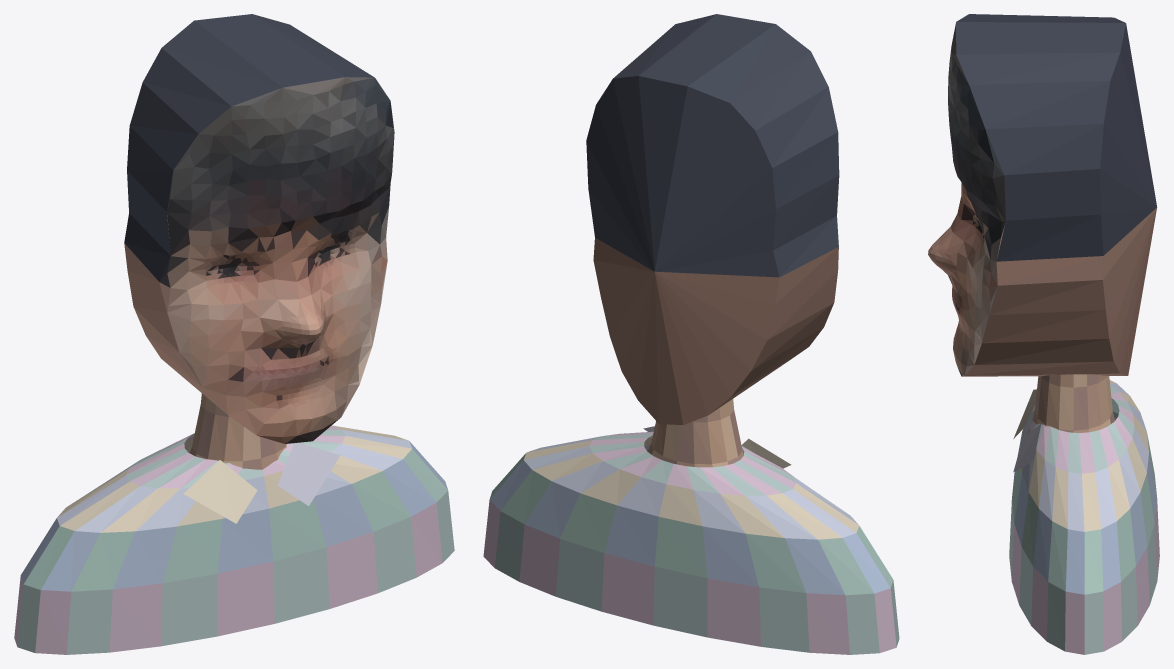
File: portrait.obj
3 views of the same model, side by side, from view 1: azimuth 30°, elevation 25°; view 2: azimuth 150°, elevation 25°; view 3: azimuth 270°, elevation 25° (orthographic). The views are drawn at different scales.
Bounding box in the file's own units: 348 × 430 × 172.
